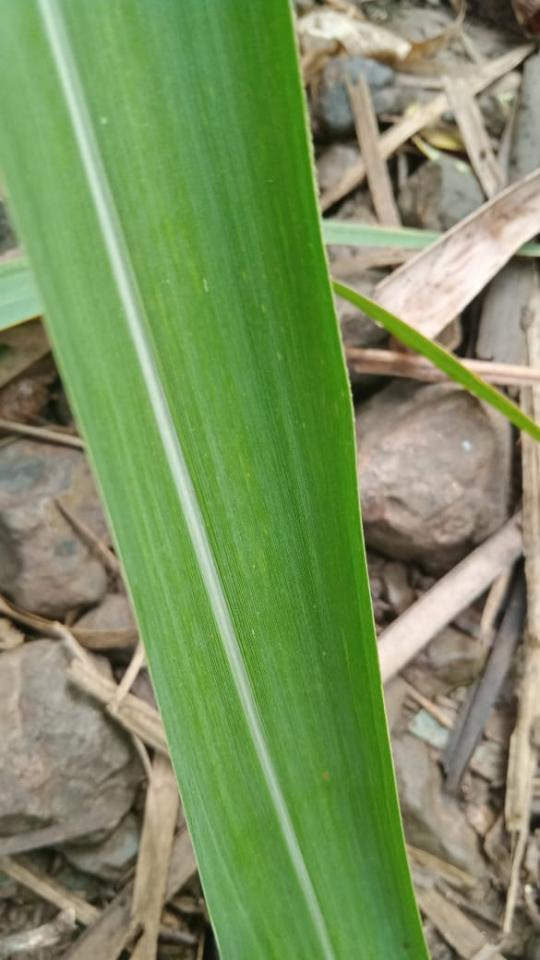Healthy: (0, 0, 431, 959)
